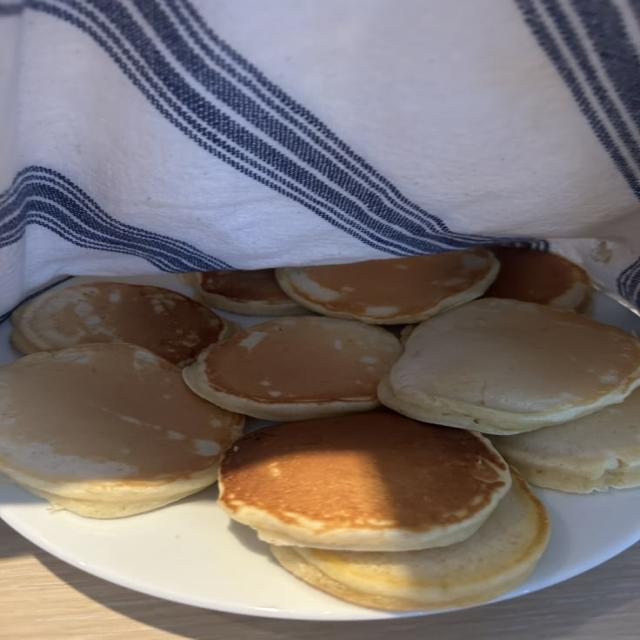pancake: (0, 344, 244, 518), (219, 412, 510, 551), (271, 472, 550, 610), (379, 299, 639, 434), (184, 316, 401, 420), (11, 282, 236, 365), (276, 248, 499, 324), (492, 389, 639, 493), (485, 246, 591, 309), (183, 269, 308, 315)
